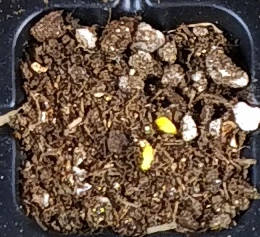chilli seed: (155, 116, 176, 134), (140, 145, 153, 170)
